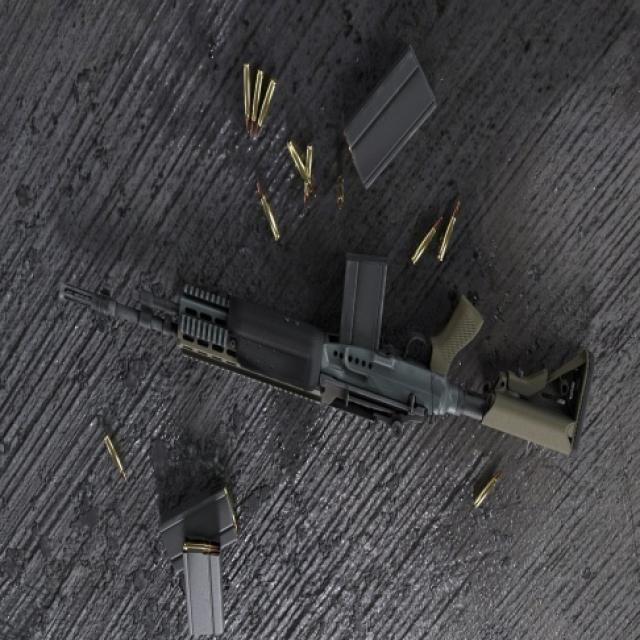Gun: (89, 210, 600, 498)
